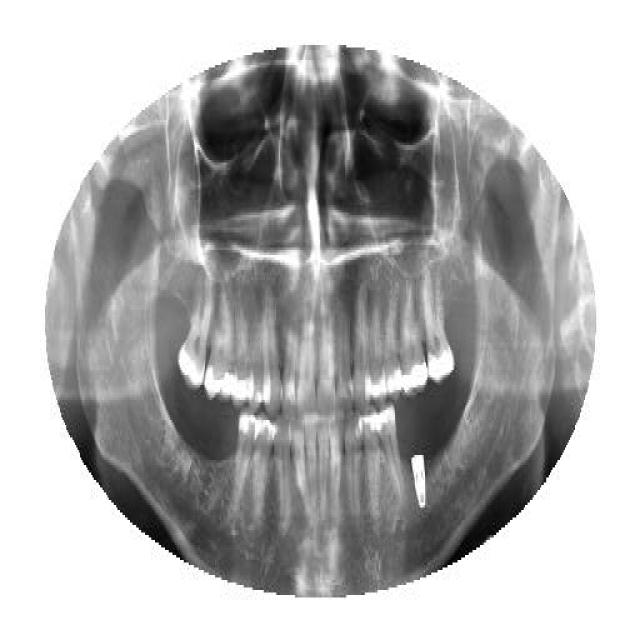Fillings: (205, 262, 236, 402), (422, 268, 458, 382), (401, 270, 429, 398), (176, 290, 212, 388), (376, 402, 406, 502), (234, 262, 254, 410), (232, 410, 258, 512), (384, 282, 404, 402), (253, 412, 275, 512), (360, 410, 379, 515), (368, 300, 387, 398)
Implant: (410, 448, 428, 512)
